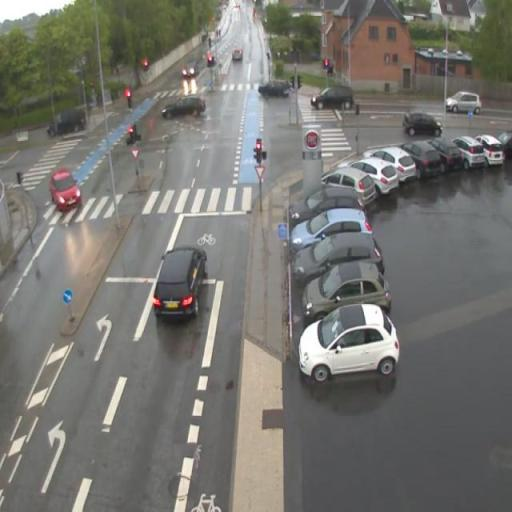小汽车: (300, 308, 399, 382), (304, 262, 390, 316), (155, 244, 206, 318), (296, 236, 384, 276), (294, 208, 373, 244), (309, 162, 377, 201), (292, 187, 363, 218), (353, 154, 400, 196), (370, 142, 416, 183), (47, 166, 80, 211), (404, 108, 444, 139), (308, 88, 358, 112), (161, 95, 203, 120), (44, 110, 82, 136), (445, 90, 482, 116)
